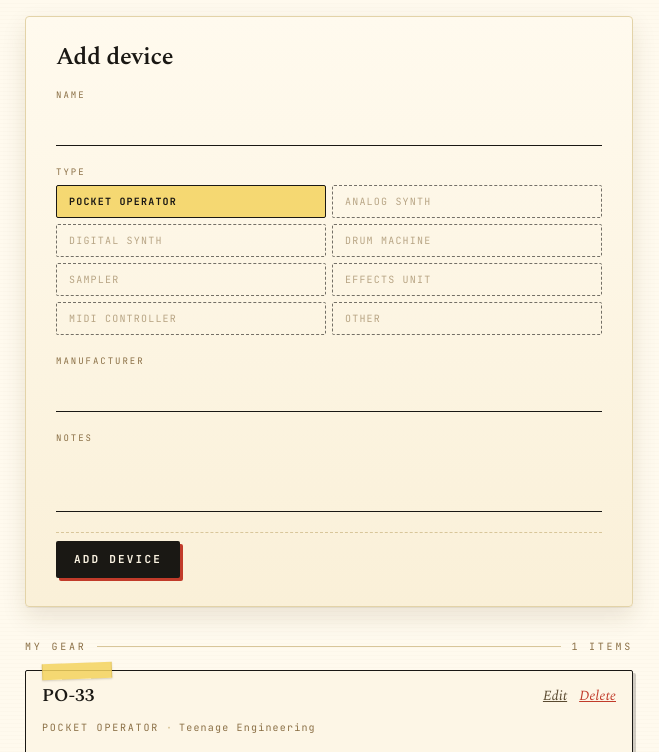
Devices page › clicking Edit on a device shows inline editable fields
Click the button "Edit".
click(555, 695)  # box [543,684,567,706]
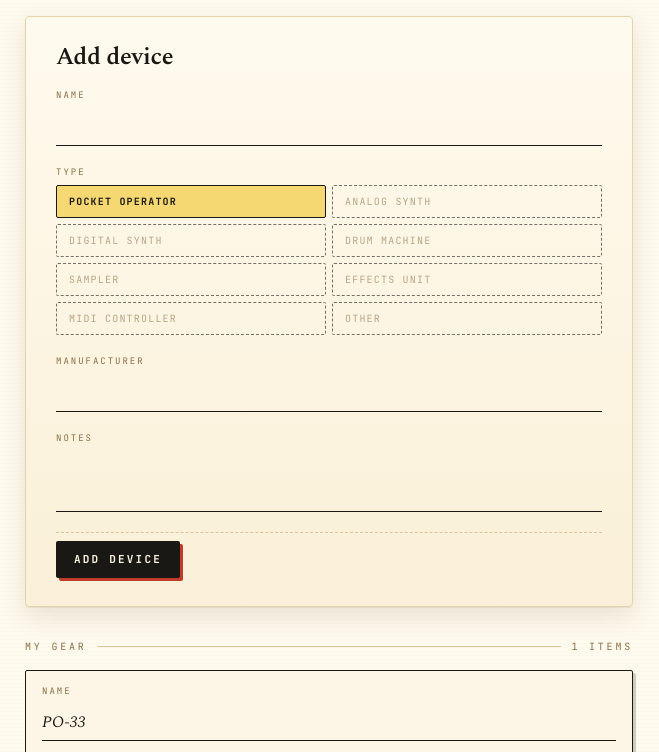
Expected: the 2nd field showing "PO-33" is shown, [42,704,616,741]
